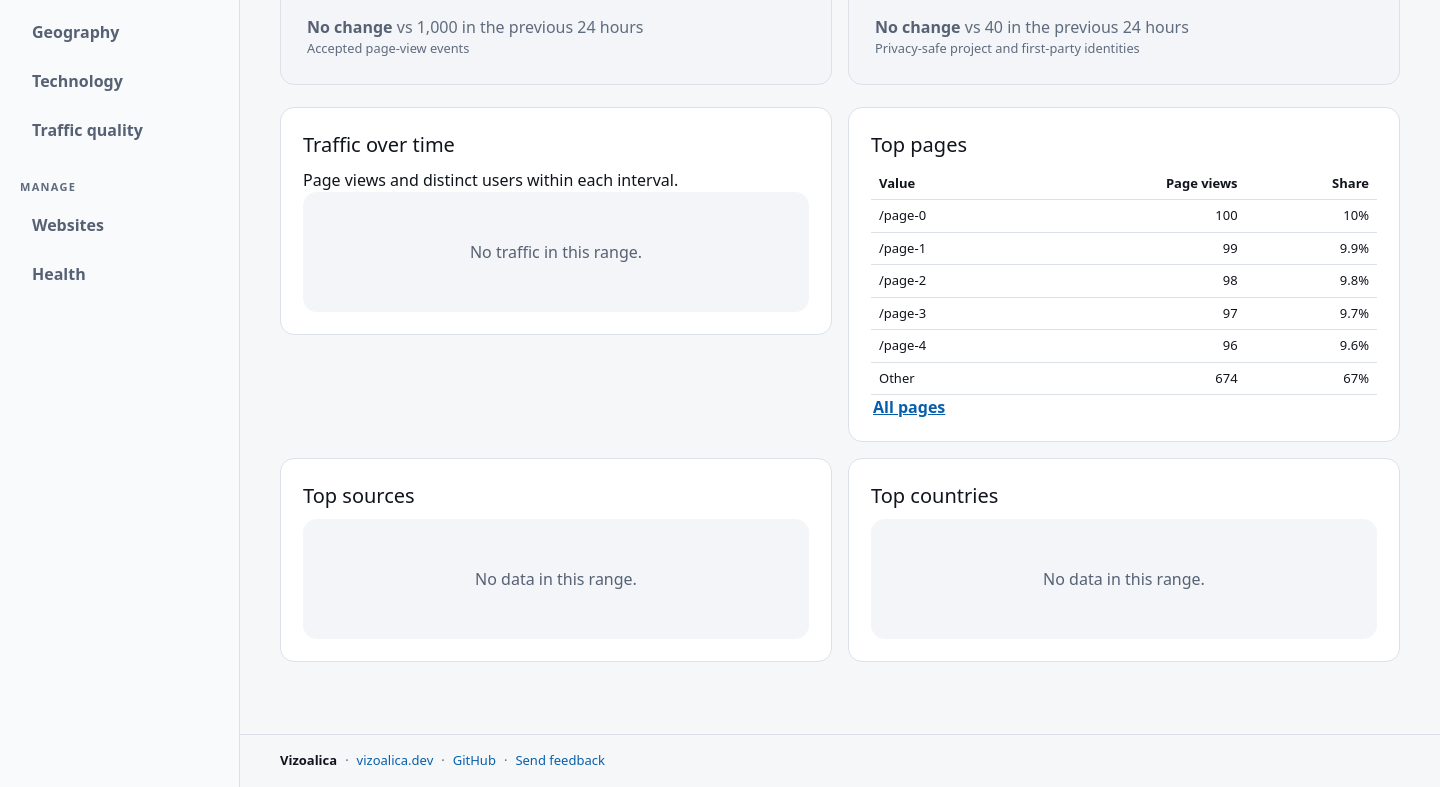
analytics overview › shows the top five with a link to the full list, and Show all on the dedicated view
(page scrolled)
Expected: the column heading "/page-0" is shown, [871,200,1028,232]
Expected: the text "/page-5" is not shown
What coordinates should you click on to do the following:
click the link "All pages"
I would click on:
 (909, 407)
Its box is [871,392,947,422].
(page scrolled)
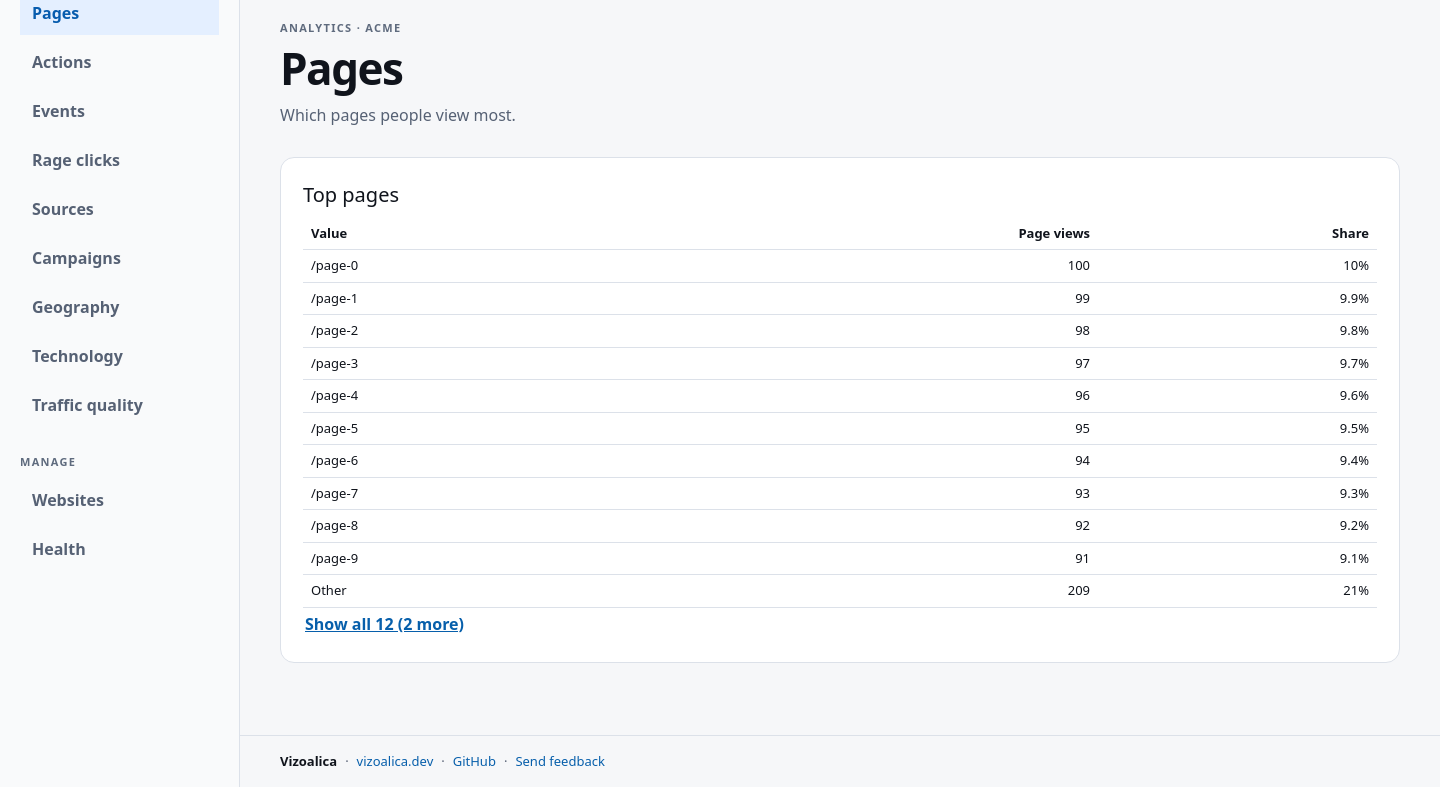
Expected: the text "/page-10" is not shown
Expected: the heading "Pages" is shown, [280,38,402,98]
Expected: the column heading "/page-9" is shown, [303,542,636,575]
What coordinates should you click on to do the following:
click the button "Show all 12 (2 more)"
I would click on:
 (384, 624)
Its box is [303,608,466,640].
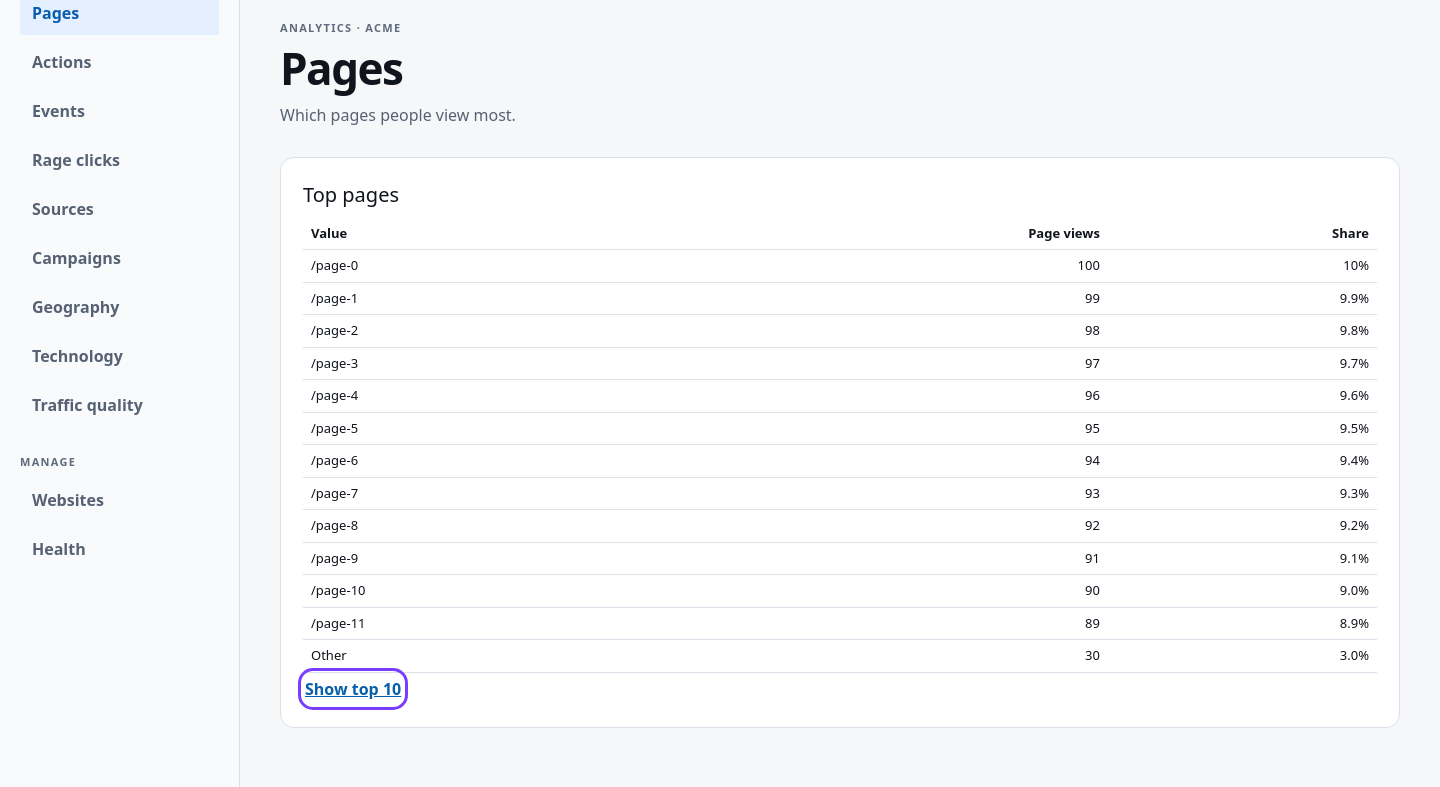
Expected: the column heading "Other" is shown, [303,640,662,672]
Expected: the column heading "/page-11" is shown, [303,607,662,640]
What coordinates should you click on to do the following:
click the button "Show top 10"
I would click on:
 (353, 689)
Its box is [303,673,403,705].
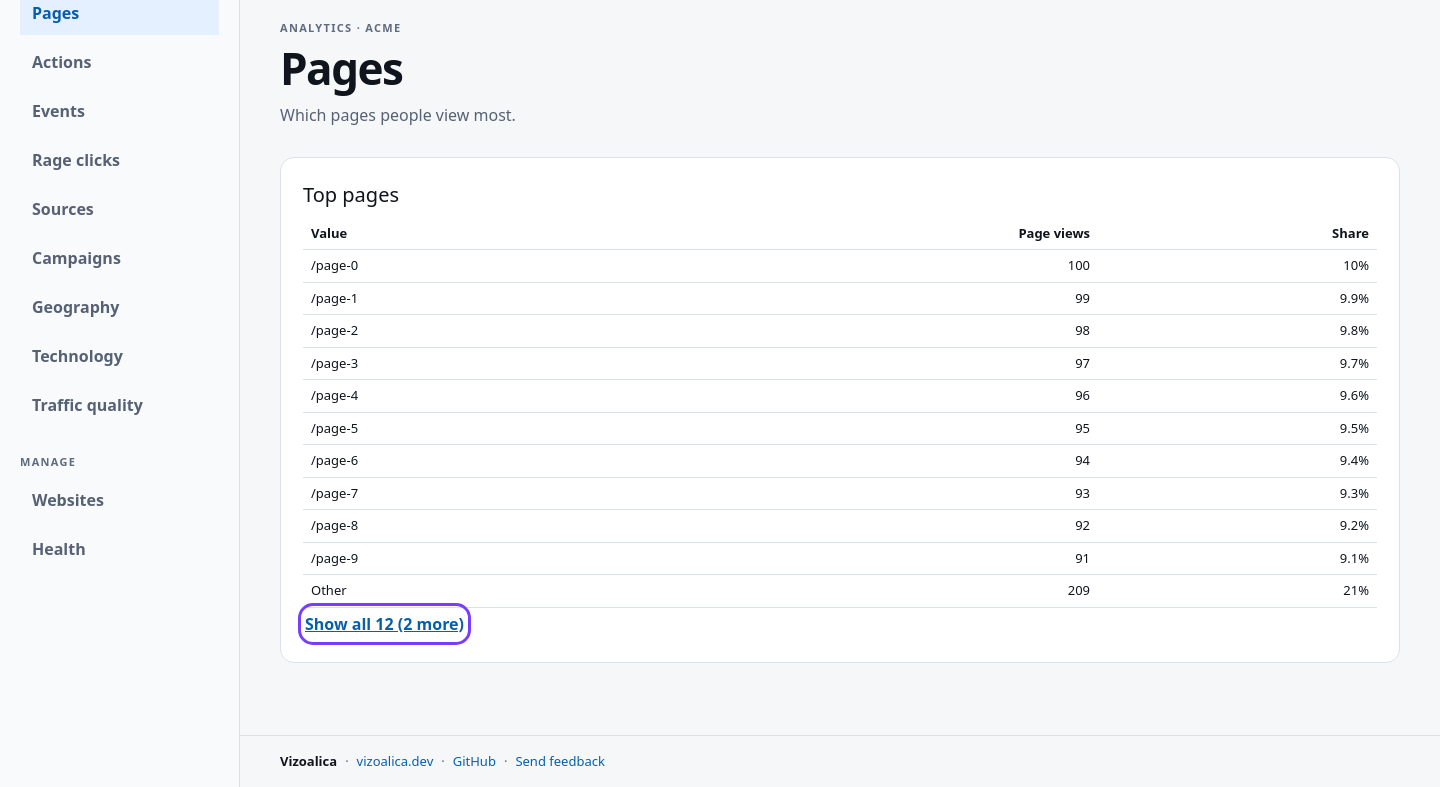
Expected: the column heading "/page-11" is gone
